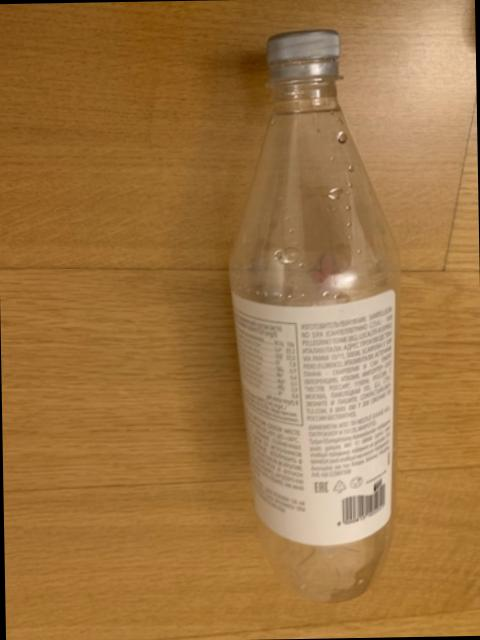plastic: (232, 33, 400, 604)
